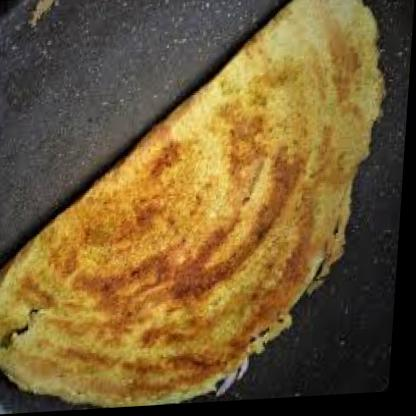dosa: (0, 0, 390, 416)
